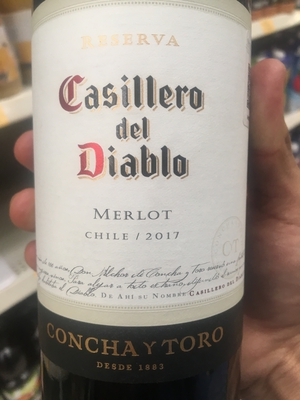casillero del diablo merlot: (25, 5, 260, 400)
